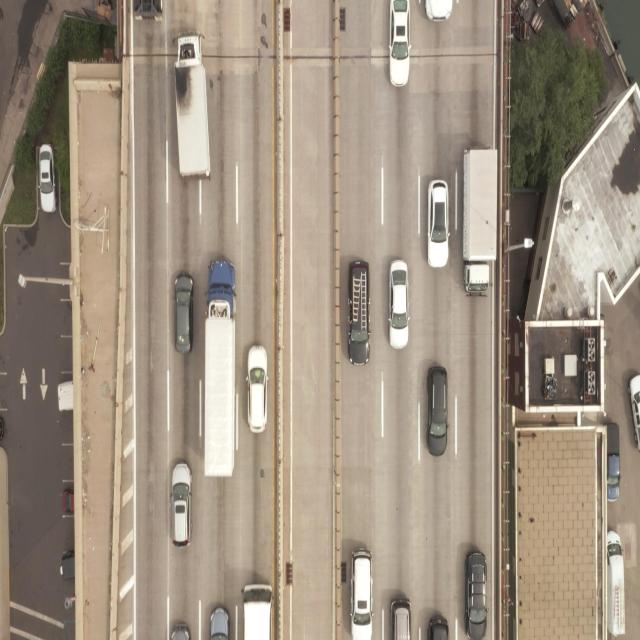Car: (244, 340, 269, 437), (347, 261, 370, 363), (464, 551, 488, 638), (350, 549, 373, 637), (388, 0, 411, 87), (426, 366, 448, 456), (606, 531, 625, 635), (427, 180, 449, 266), (388, 260, 409, 349), (171, 463, 193, 547), (174, 273, 195, 353), (242, 584, 273, 638), (38, 144, 56, 213), (607, 427, 621, 500), (390, 598, 412, 639), (628, 373, 640, 448), (210, 606, 231, 638), (425, 0, 452, 23), (427, 615, 448, 640), (58, 380, 74, 412), (60, 549, 76, 580), (169, 621, 191, 640), (61, 487, 74, 516), (0, 416, 5, 440)
Truck: (200, 258, 238, 485), (175, 27, 212, 183), (461, 143, 496, 301)
